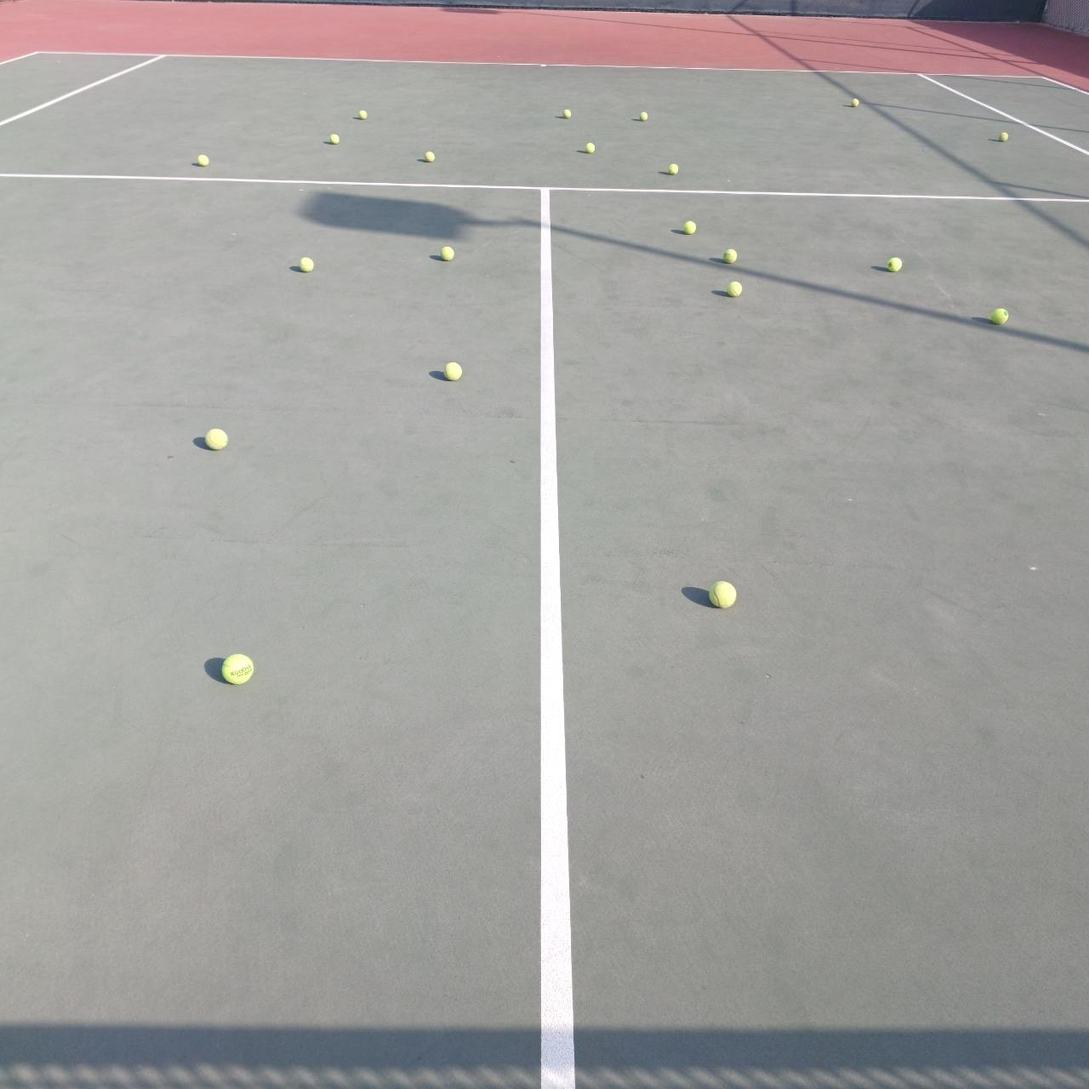tennis-ball: (220, 651, 254, 685), (708, 579, 737, 609), (204, 425, 227, 450), (443, 359, 463, 380), (990, 305, 1008, 324), (298, 254, 314, 271), (727, 281, 742, 298), (440, 246, 455, 262), (886, 257, 902, 272), (723, 249, 737, 264), (683, 220, 696, 236), (197, 155, 209, 167), (329, 133, 340, 145), (668, 164, 679, 176), (424, 151, 435, 162), (586, 142, 595, 154), (562, 109, 572, 118), (358, 110, 367, 120), (999, 132, 1008, 142), (639, 112, 648, 121), (851, 99, 859, 107)
